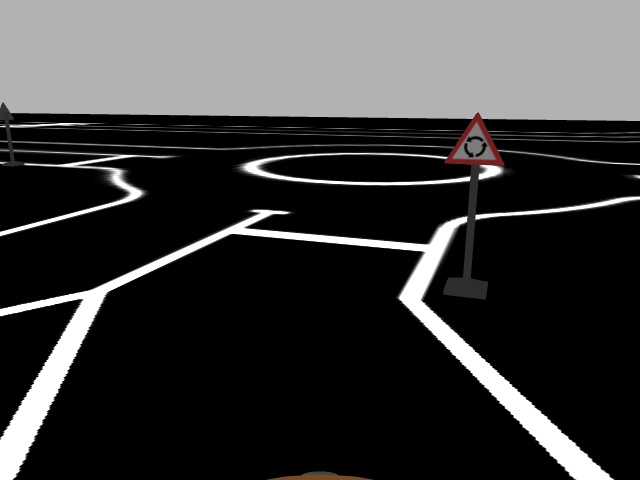roundabout: (442, 112, 505, 164)
